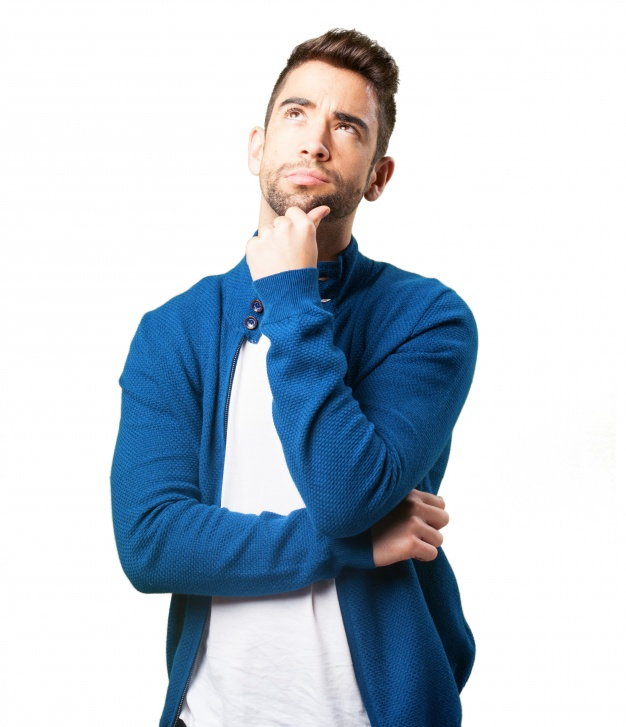confused: (263, 68, 378, 227)
